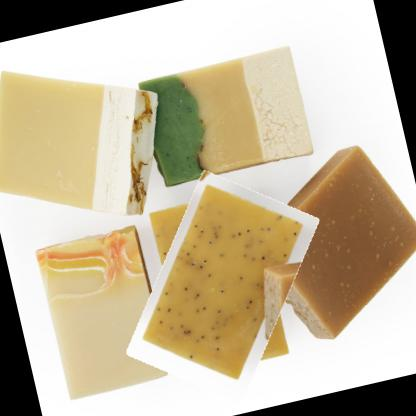soap: (113, 162, 330, 412)
